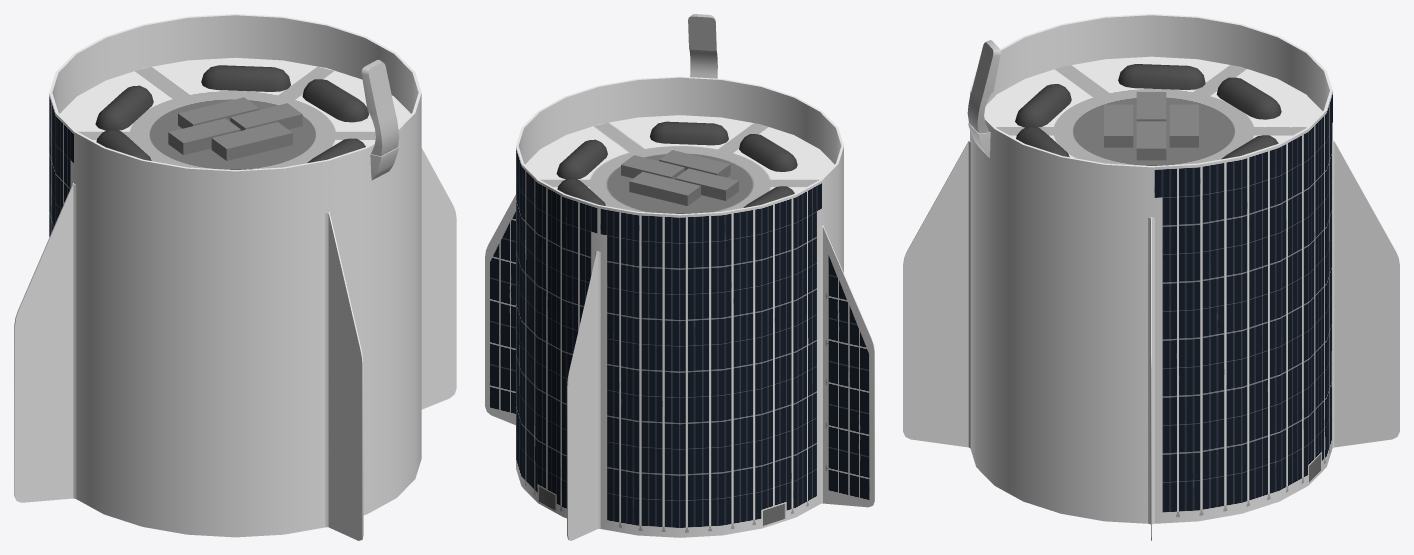
File: iss_trunk.fbx
3 renders of one model, left to right at view 1: azimuth 30°, elevation 25°; view 2: azimuth 150°, elevation 25°; view 3: azimuth 270°, elevation 25°, orthographic. The views are drawn at different scales.
Parts seen in each view (by area): view 1: trunk, trunk connector; view 2: trunk, trunk connector; view 3: trunk, trunk connector.
Boxes of the visible parts, x1,y1,x2,y2 form: trunk: (14, 14, 456, 540); trunk connector: (361, 59, 398, 156); trunk: (485, 76, 874, 540); trunk connector: (688, 14, 717, 78); trunk: (903, 14, 1399, 540); trunk connector: (967, 40, 1000, 133).
Bounding box in the file's own units: 5 × 4.76 × 5.
